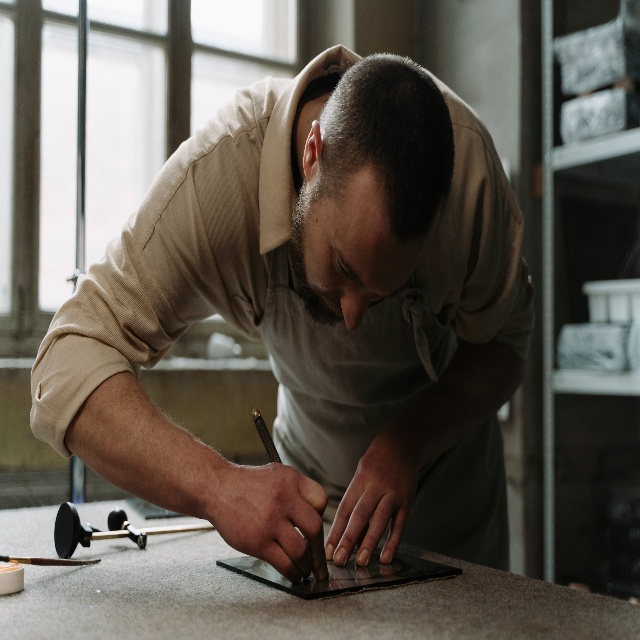Sin_guantes: (213, 459, 329, 584), (324, 417, 420, 568)
